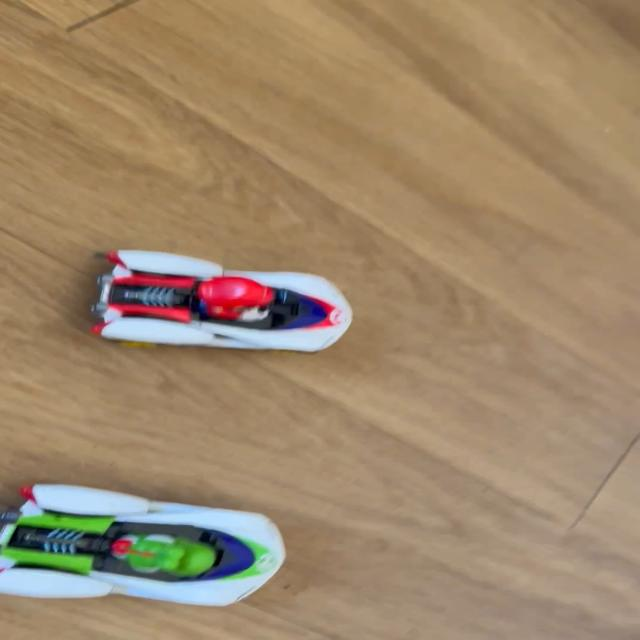mario: (65, 245, 378, 361)
yoshi: (0, 477, 313, 623)
